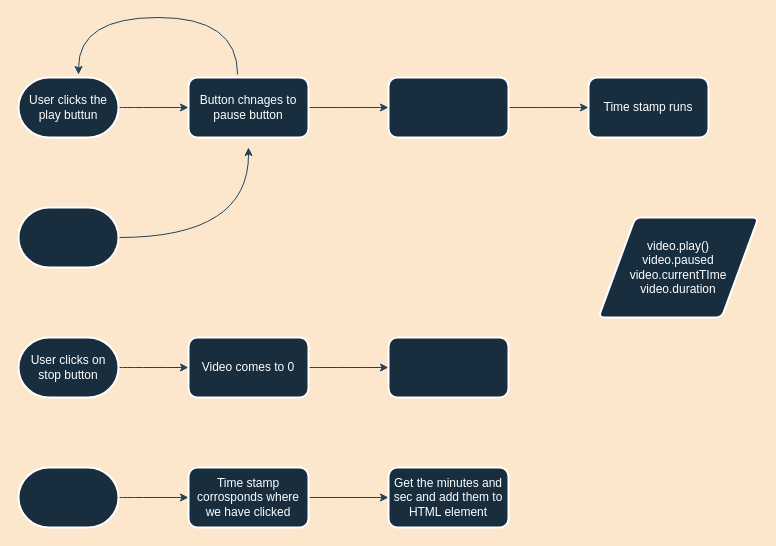
Some shapes in this 776 by 546 pixel diagram are drawn without their labels. Here are the shapes that lost their labels. From the top down, the box of each, then its label:
(387, 76, 509, 138): Video starts playing
(17, 206, 119, 268): User clicks the video icon
(387, 336, 509, 398): Video stops
(17, 466, 119, 528): click on the time stamp
